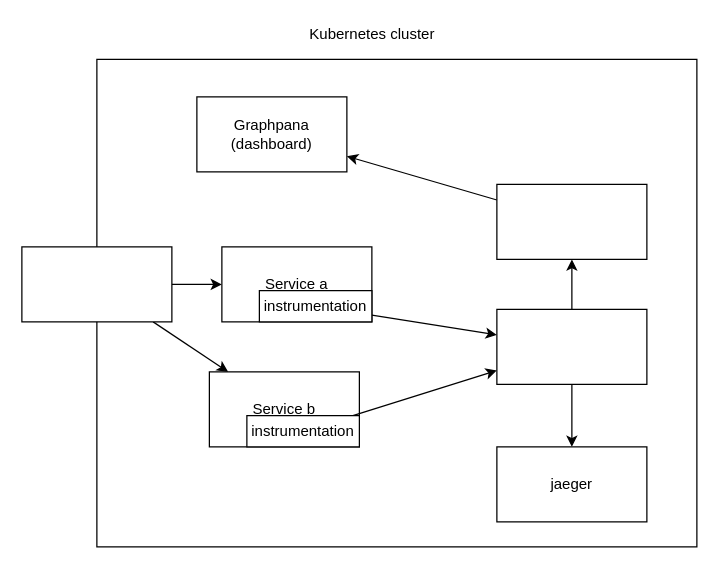
Some shapes in this 719 by 569 pixel diagram are drawn without their labels. The centre of each missing label's shape, as x and y in pixels:
Ingress: (x=96, y=284)
Otel collector: (x=571, y=346)
Prometheus: (x=571, y=221)
